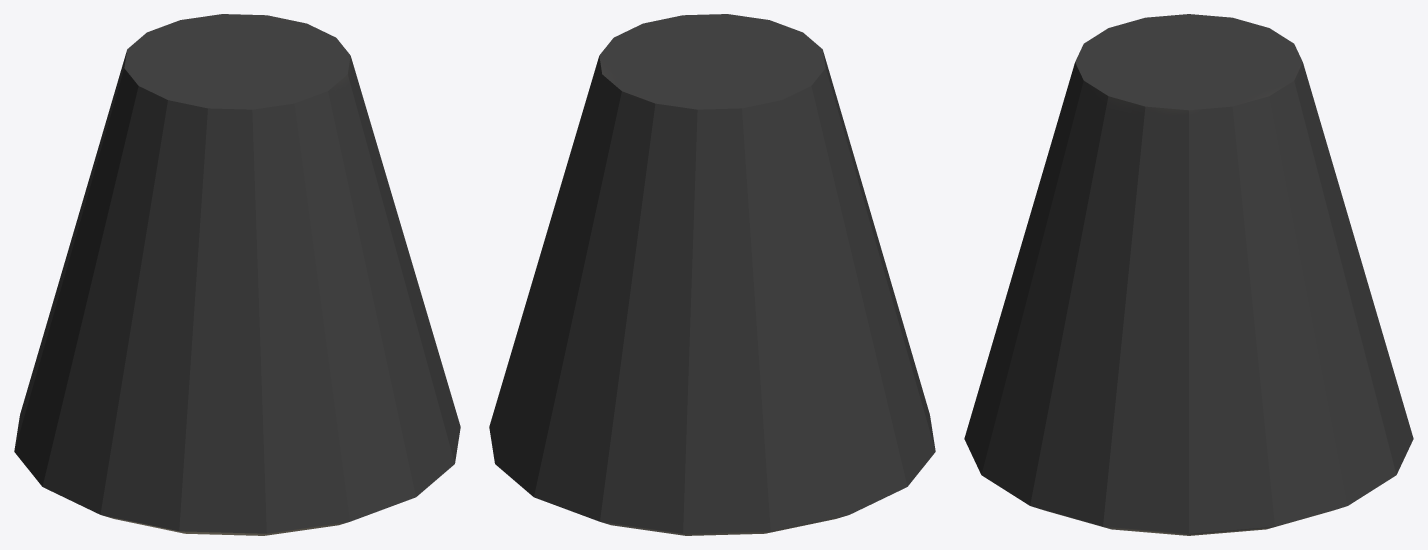
The picture shows the model from 3 angles, left to right: view 1: azimuth 30°, elevation 25°; view 2: azimuth 150°, elevation 25°; view 3: azimuth 270°, elevation 25°; orthographic projection.
Visible parts, largest first — view 1: mk1; view 2: mk1; view 3: mk1.
Part boxes in pixels (x1,y1,x2,y2): mk1: [14, 14, 460, 535]; mk1: [489, 14, 935, 535]; mk1: [964, 14, 1413, 535].
Bounding box in the file's own units: 2.47 × 2.4 × 2.47.
Materials: 1 (1 with a texture image).
